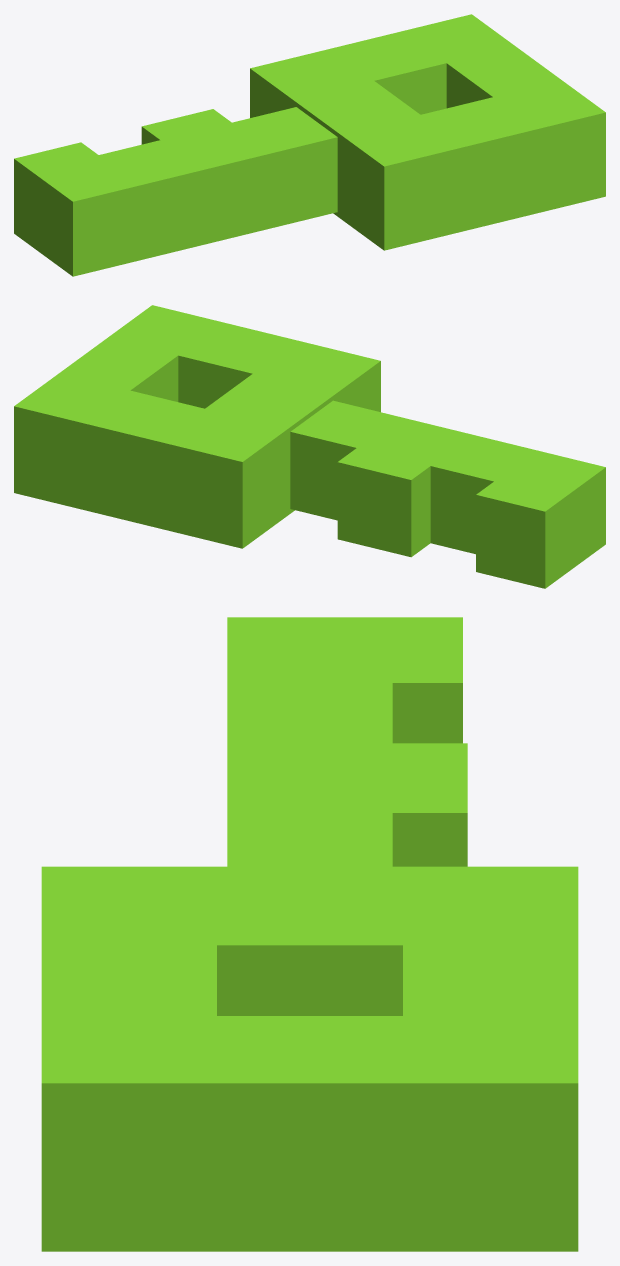
File: Key Lesopilka.fbx
3 renders of one model, top to bottom at view 1: azimuth 30°, elevation 25°; view 2: azimuth 150°, elevation 25°; view 3: azimuth 270°, elevation 25°, orthographic. The views are drawn at different scales.
Visible parts, largest first — view 1: Cube.001, Cube; view 2: Cube.001, Cube; view 3: Cube.001, Cube.
Part boxes in pixels (x1,y1,x2,y2): Cube.001: [250, 14, 605, 250]; Cube: [14, 107, 337, 276]; Cube.001: [14, 305, 380, 548]; Cube: [290, 400, 605, 588]; Cube.001: [41, 866, 578, 1251]; Cube: [227, 617, 467, 866].
Bounding box in the file's own units: 1.65 × 0.2734 × 0.7904.
